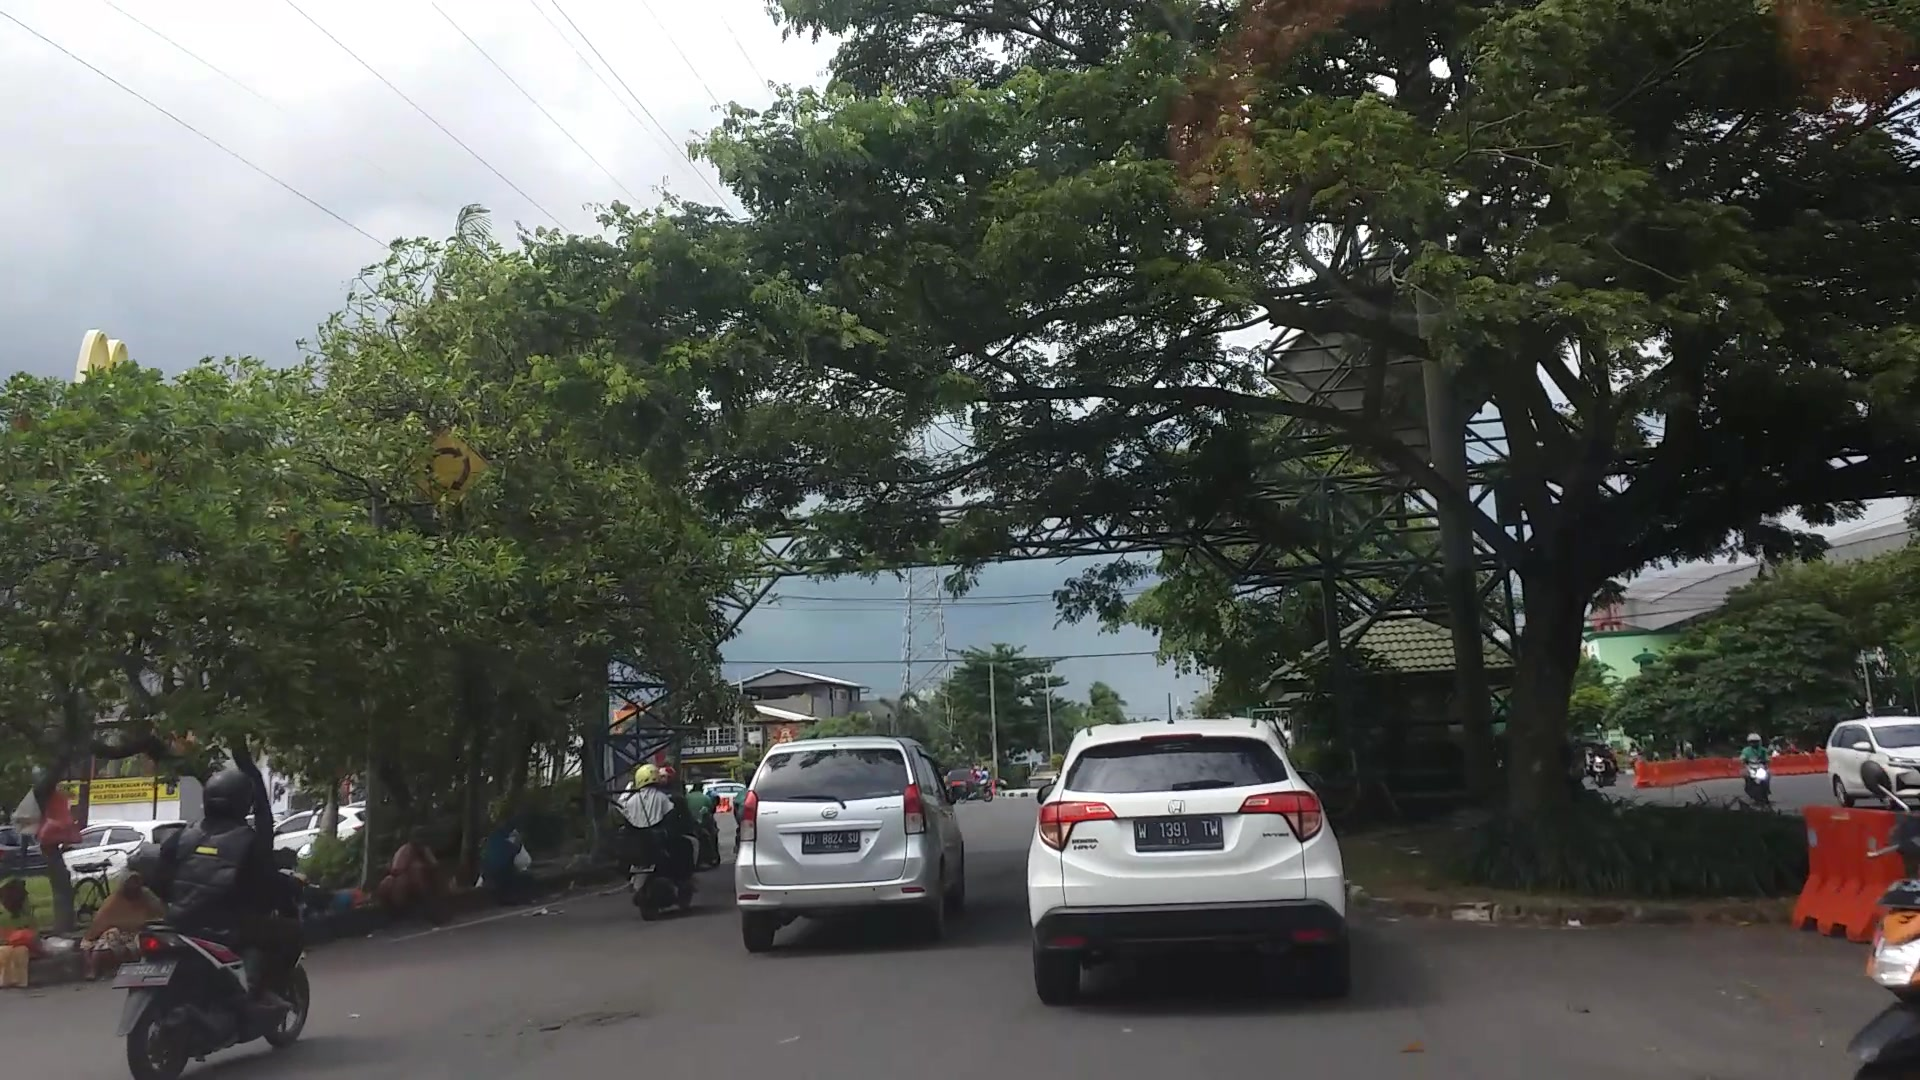plate_positive: (1135, 818, 1222, 851), (800, 829, 860, 853)
